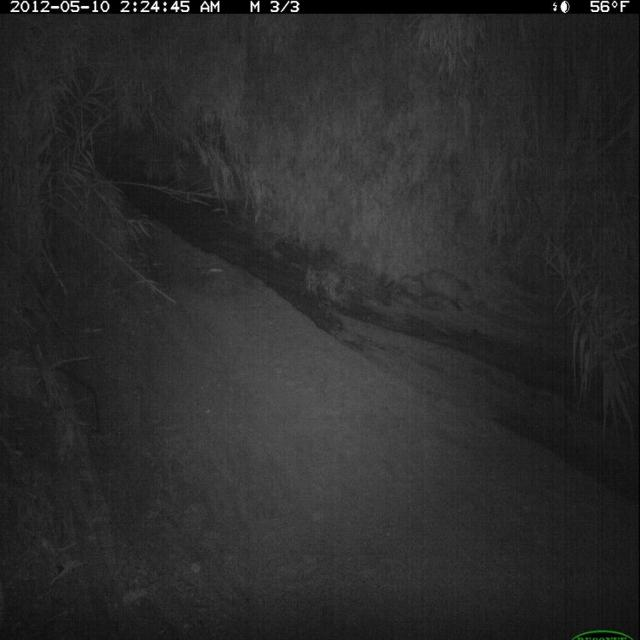opossum: (396, 265, 481, 317)
